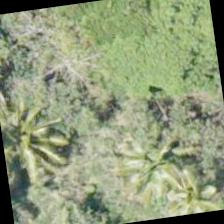Kelapa_Sawit: (106, 120, 208, 222), (0, 88, 78, 188)
